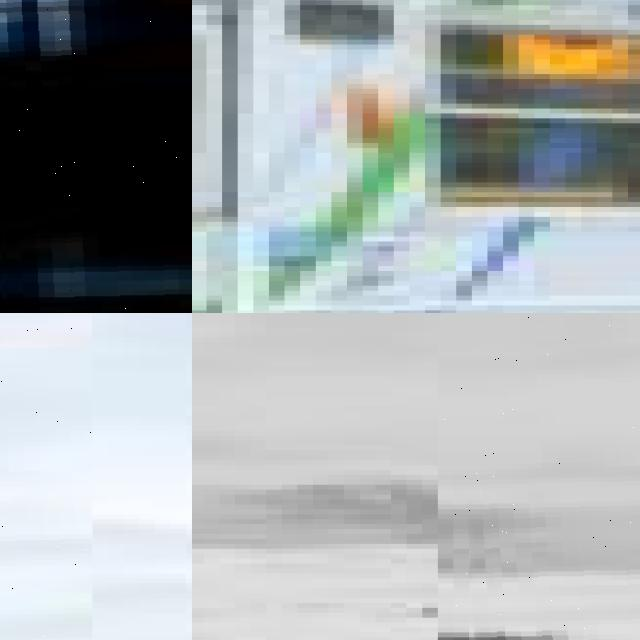street light: (438, 313, 640, 640), (0, 0, 192, 313), (0, 313, 92, 640)
